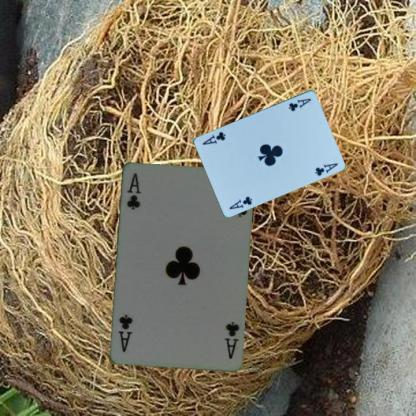Ac: (124, 170, 142, 212), (222, 319, 240, 360), (286, 95, 313, 113), (226, 194, 254, 210)
